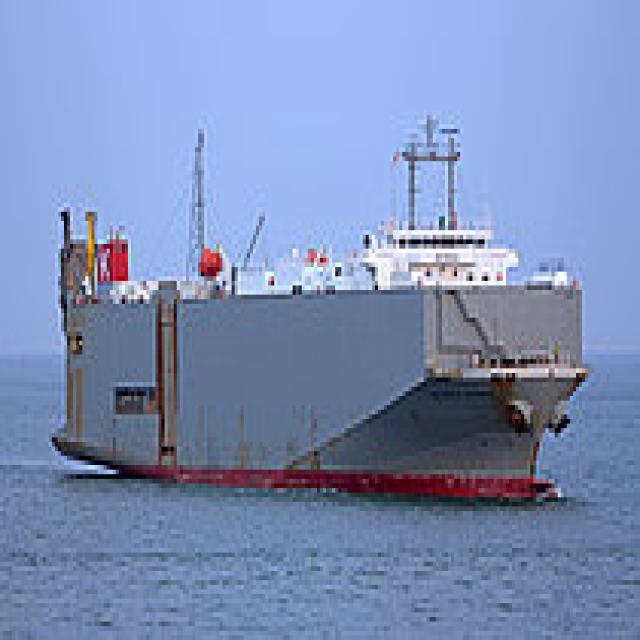Carrier: (46, 110, 591, 507)
